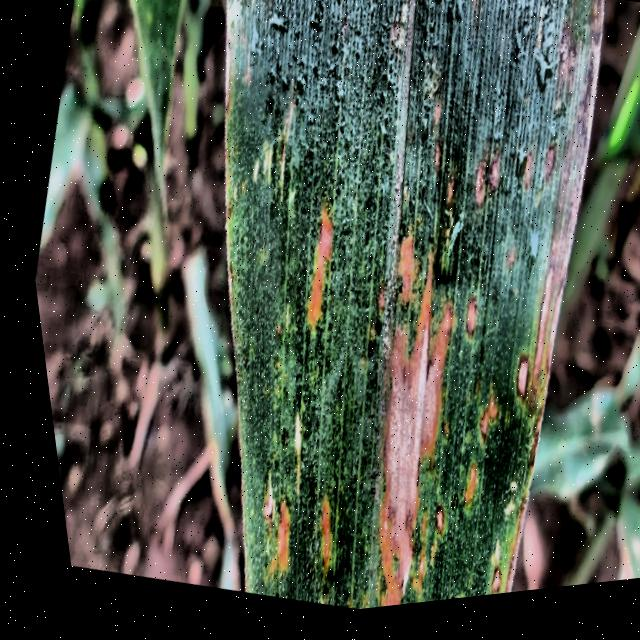gray_spot: (228, 0, 603, 604)
